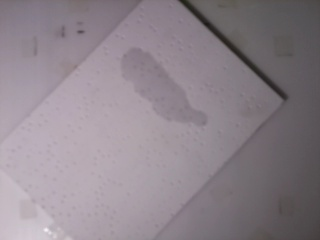Water_detected: (127, 51, 188, 112)
